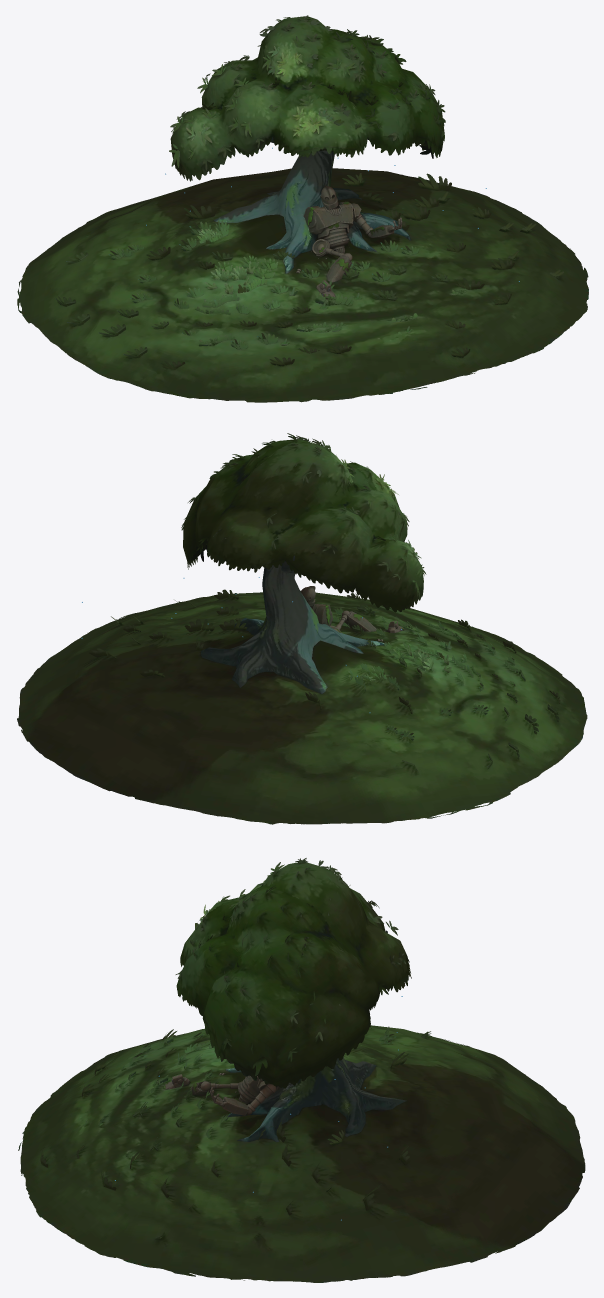
3 renders of one model, top to bottom at view 1: azimuth 30°, elevation 25°; view 2: azimuth 150°, elevation 25°; view 3: azimuth 270°, elevation 25°, orthographic. The views are drawn at different scales.
Visible parts, largest first — view 1: Ground, TreeLeaves, TreeTrunk, Robot; view 2: Ground, TreeLeaves, TreeTrunk, Robot; view 3: Ground, TreeLeaves, TreeTrunk, Robot.
Part boxes in pixels (x1,y1,x2,y2): Ground: (17,168,588,402); TreeLeaves: (169,15,445,181); TreeTrunk: (213,137,411,299); Robot: (296,185,402,299); Ground: (17,589,587,824); TreeLeaves: (181,433,426,612); TreeTrunk: (200,555,404,693); Robot: (300,586,403,641); Ground: (18,1025,585,1282); TreeLeaves: (175,858,411,1088); TreeTrunk: (163,930,406,1142); Robot: (165,1073,280,1115).
Bounding box in the file's own units: 83.39 × 43.95 × 78.75.
Materials: 5 (5 with a texture image).
